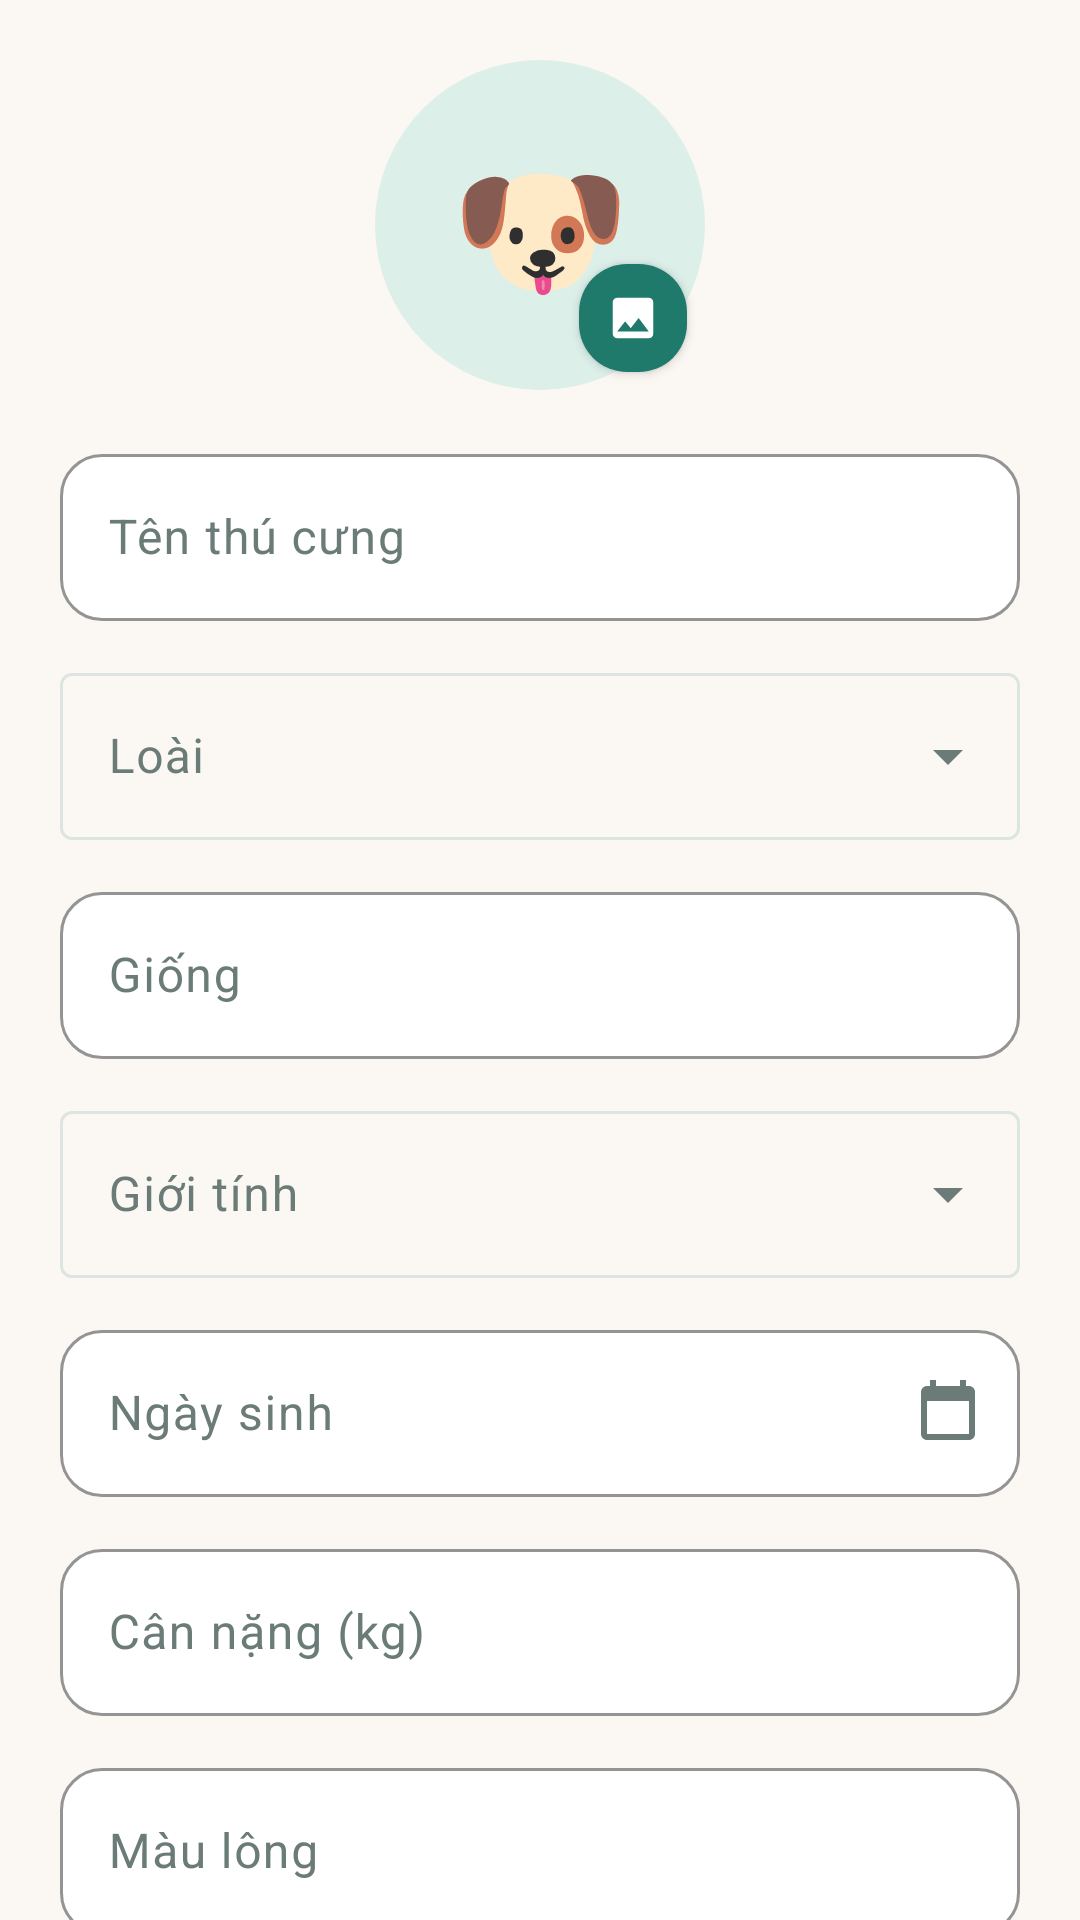

Where to tap for icons on this 1080*1920 app screen, as [x,y]:
Chọn ảnh: [633,318]
